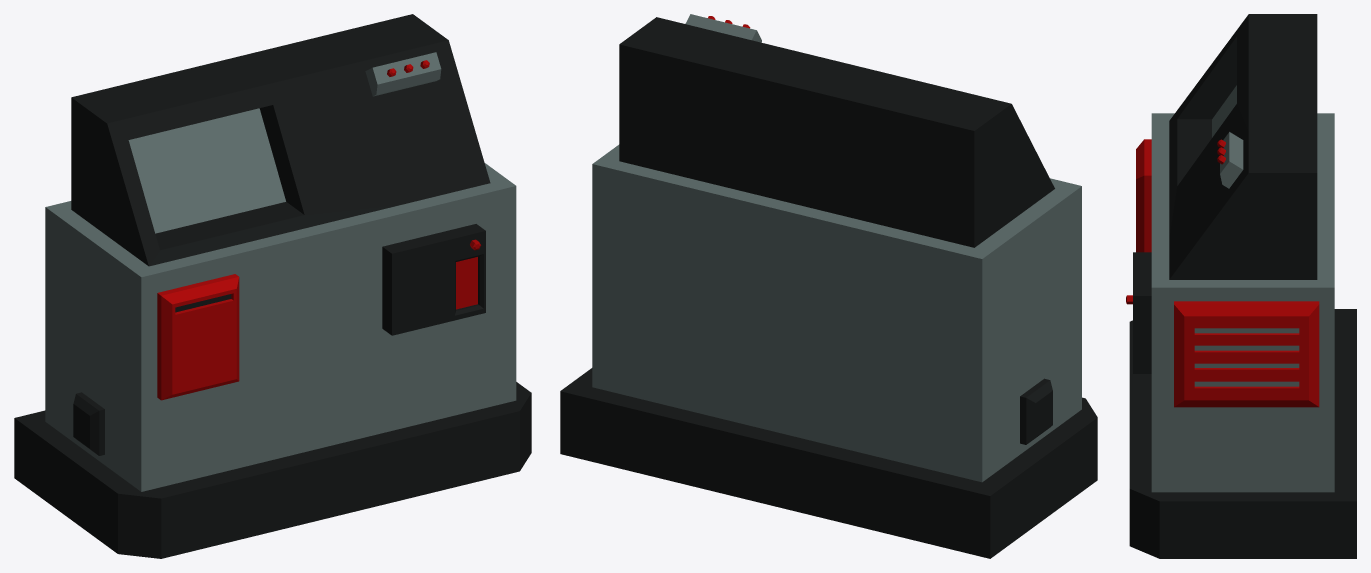
Rendered from Generator.fbx.
3 renders of one model, left to right at view 1: azimuth 30°, elevation 25°; view 2: azimuth 150°, elevation 25°; view 3: azimuth 270°, elevation 25°, orthographic. The views are drawn at different scales.
Parts seen in each view (by area): view 1: Console_Unit2:console, Console_Unit2:on_button_panel; view 2: Console_Unit2:console; view 3: Console_Unit2:console, Console_Unit2:vent, Console_Unit2:on_button_panel.
Part boxes in pixels (<box>): Console_Unit2:console: <box>14,14,531,558</box>; Console_Unit2:on_button_panel: <box>382,224,485,335</box>; Console_Unit2:console: <box>560,14,1097,558</box>; Console_Unit2:console: <box>1129,14,1356,558</box>; Console_Unit2:vent: <box>1174,301,1319,407</box>; Console_Unit2:on_button_panel: <box>1133,252,1151,373</box>.
Bounding box in the file's own units: 169 × 152 × 85.53.
